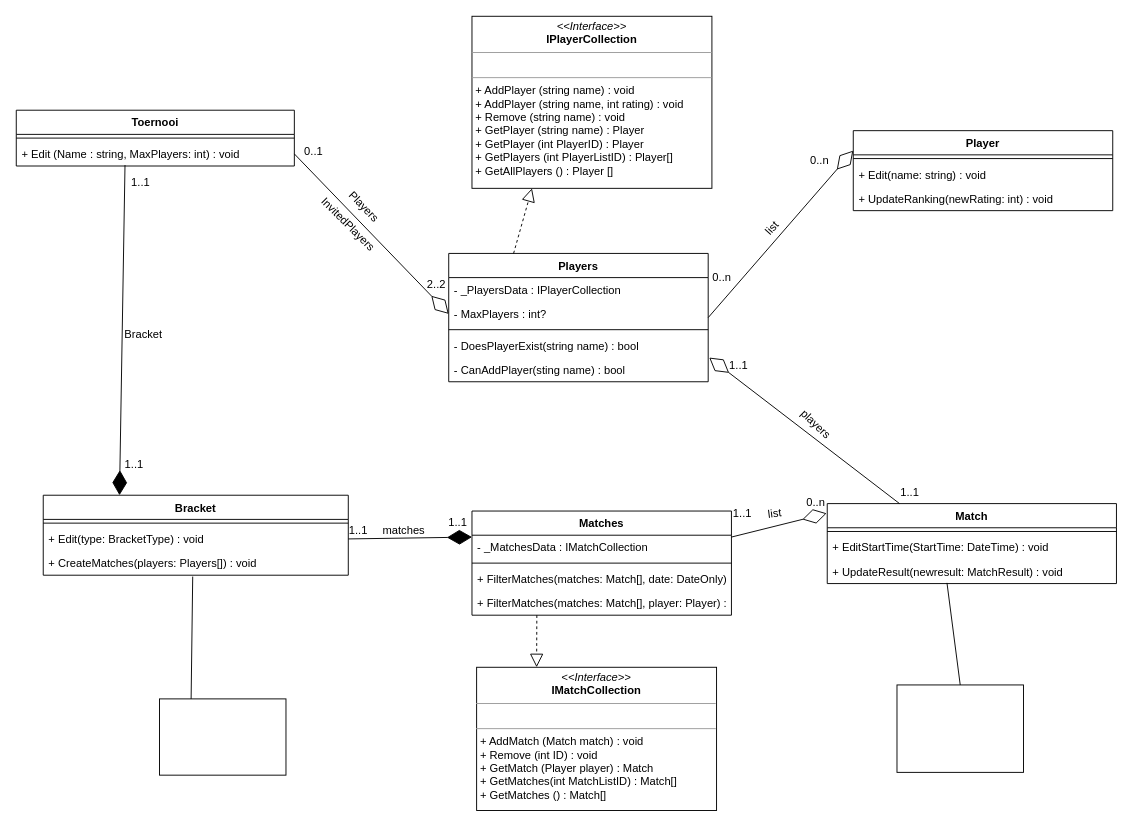
Image size: 1133x827. Some labels were removed from this diagram. Here are the shapes that lost their labels. From the top down, the centre of each, then its label:
At point 222,736: "<<enumeration>> BracketType round robin elemination".
At point 959,728: "<<enumeration>> MatchResult WinP1 WinP2 Draw".
